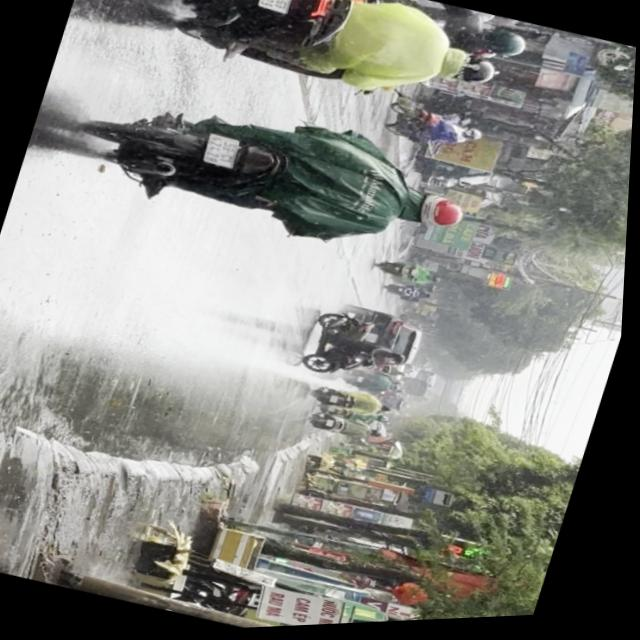helmet: (407, 189, 472, 237), (446, 49, 503, 93), (476, 25, 533, 67)
licenseplate: (32, 52, 493, 290), (136, 0, 536, 140)
nohelmet: (205, 133, 243, 170), (259, 0, 297, 15)
